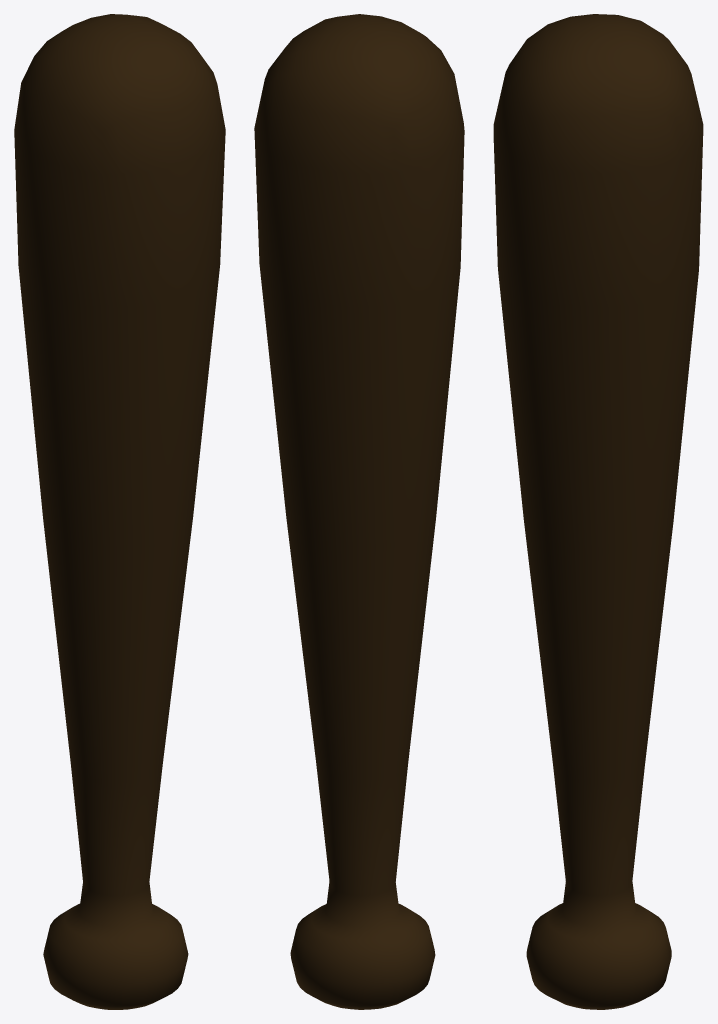
File: bludgeon.fbx
3 views of the same model, side by side, from view 1: azimuth 30°, elevation 25°; view 2: azimuth 150°, elevation 25°; view 3: azimuth 270°, elevation 25° (orthographic).
Visible parts, largest first — view 1: bludgeon; view 2: bludgeon; view 3: bludgeon.
Part boxes in pixels (box(x1,y1,x2,y2)): bludgeon: box(14, 14, 225, 1009); bludgeon: box(254, 14, 464, 1009); bludgeon: box(493, 14, 703, 1009).
Bounding box in the file's own units: 22.29 × 113 × 22.31.
